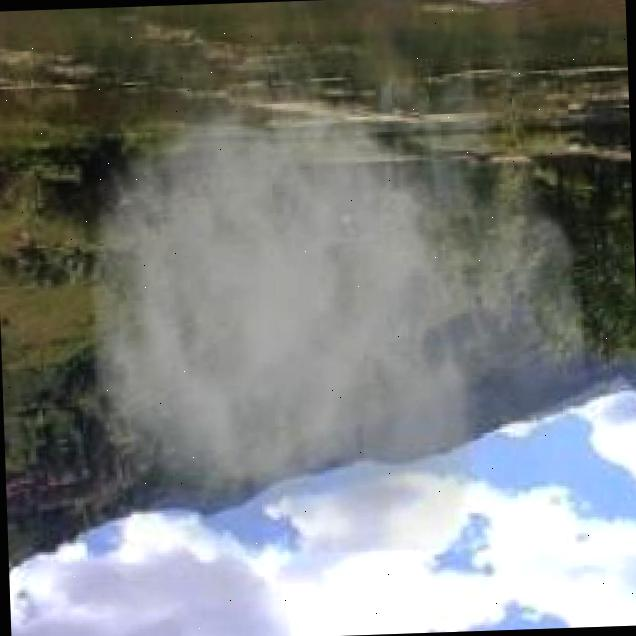smoke: (50, 0, 589, 561)
